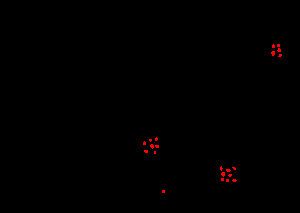Target: (271, 51, 275, 56), (150, 144, 154, 149), (221, 172, 225, 177), (277, 48, 281, 52), (220, 166, 223, 171), (226, 169, 231, 172), (232, 179, 237, 182), (272, 44, 275, 48), (278, 54, 282, 57), (155, 137, 158, 141), (143, 141, 146, 145), (155, 145, 159, 148), (144, 150, 148, 153), (232, 167, 236, 170), (228, 174, 232, 177), (277, 44, 280, 47), (149, 139, 152, 142), (221, 178, 224, 181), (226, 179, 229, 182), (162, 190, 165, 193), (154, 151, 156, 154)
